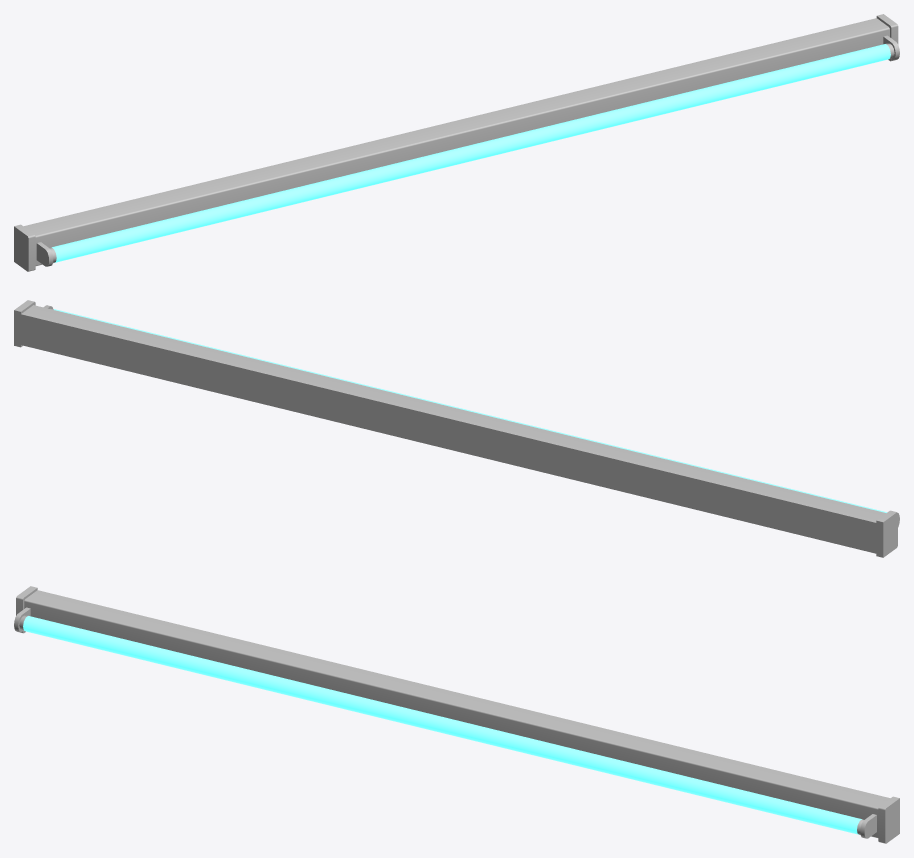
Rendered from SM_Fluorescent_01.FBX.
3 views of the same model, one above another, from view 1: azimuth 30°, elevation 25°; view 2: azimuth 150°, elevation 25°; view 3: azimuth 330°, elevation 25° (orthographic).
Parts seen in each view (by area): view 1: SM_Fluorescent_01_LOD0; view 2: SM_Fluorescent_01_LOD0; view 3: SM_Fluorescent_01_LOD0.
Part boxes in pixels (x1=…): SM_Fluorescent_01_LOD0: x1=14, y1=14, x2=899, y2=271; SM_Fluorescent_01_LOD0: x1=14, y1=300, x2=899, y2=557; SM_Fluorescent_01_LOD0: x1=14, y1=586, x2=899, y2=843.
Size of what is drawn, in the model's own units: 112 by 5.77 by 4.37.
